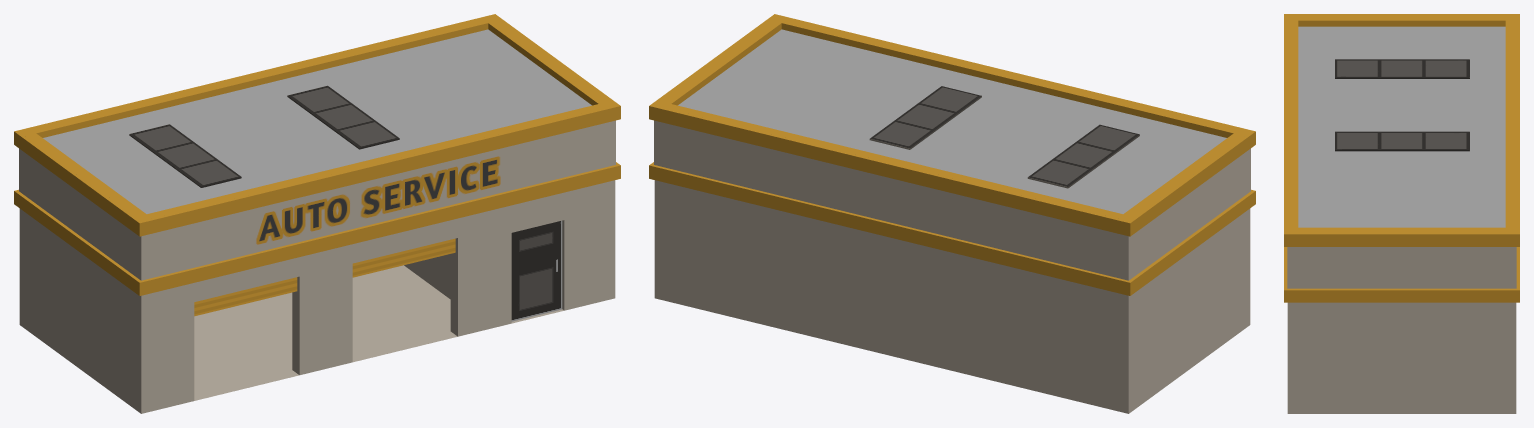
Rendered from building-auto-service.glb.
The picture shows the model from 3 angles, left to right: view 1: azimuth 30°, elevation 25°; view 2: azimuth 150°, elevation 25°; view 3: azimuth 270°, elevation 25°; orthographic projection. The views are drawn at different scales.
Parts seen in each view (by area): view 1: Building_Auto Service; view 2: Building_Auto Service; view 3: Building_Auto Service.
Boxes of the visible parts, x1,y1,x2,y2 form: Building_Auto Service: [14, 14, 620, 413]; Building_Auto Service: [649, 14, 1255, 413]; Building_Auto Service: [1284, 14, 1519, 413].
Bounding box in the file's own units: 18.27 × 7 × 8.26.
1 material, 1 textured.
